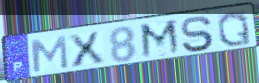8: (107, 25, 139, 64)
M: (138, 18, 183, 61), (30, 34, 71, 74)
Q: (216, 10, 253, 48)
S: (179, 15, 215, 54)
X: (65, 30, 107, 69)
